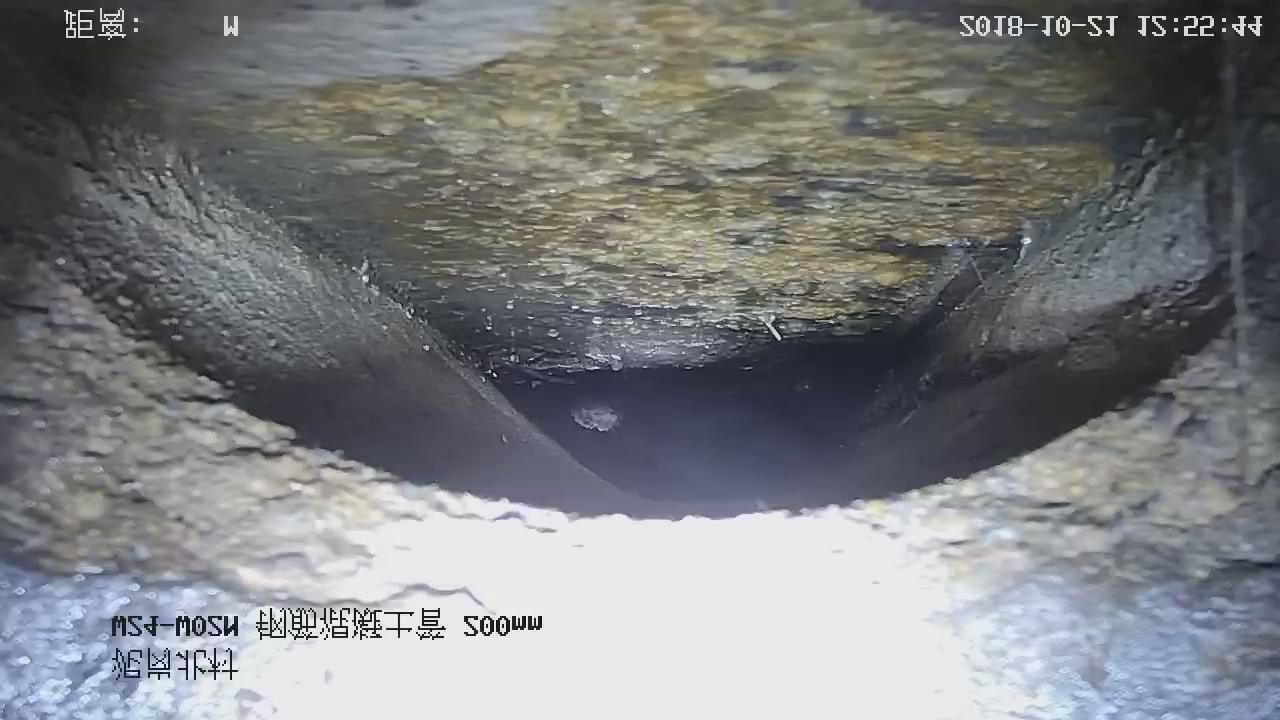FZ: (95, 1, 1147, 388)
